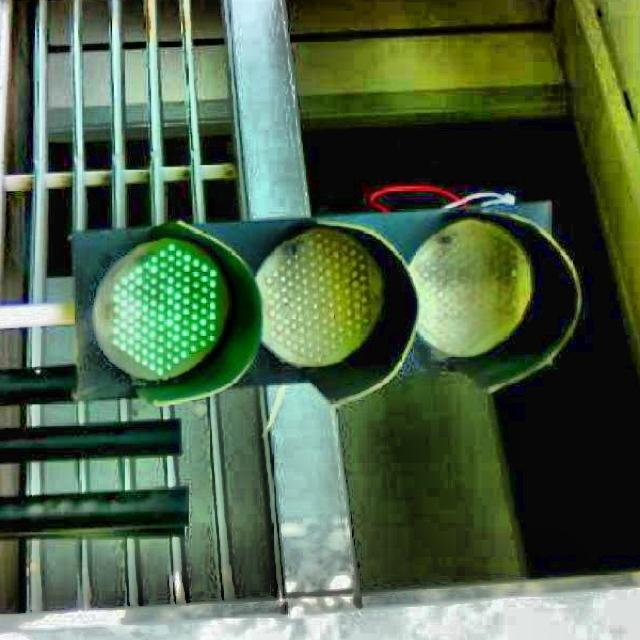green: (82, 203, 570, 390)
